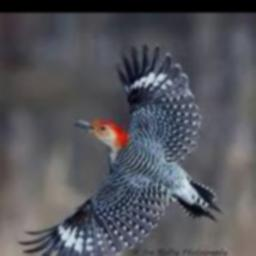Woodpecker: (18, 42, 223, 256)
